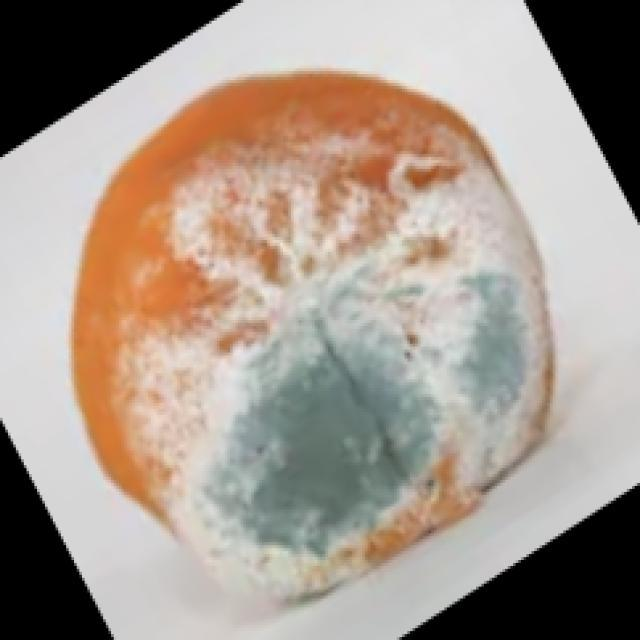sangat-busuk: (73, 72, 554, 604), (118, 137, 553, 596)
